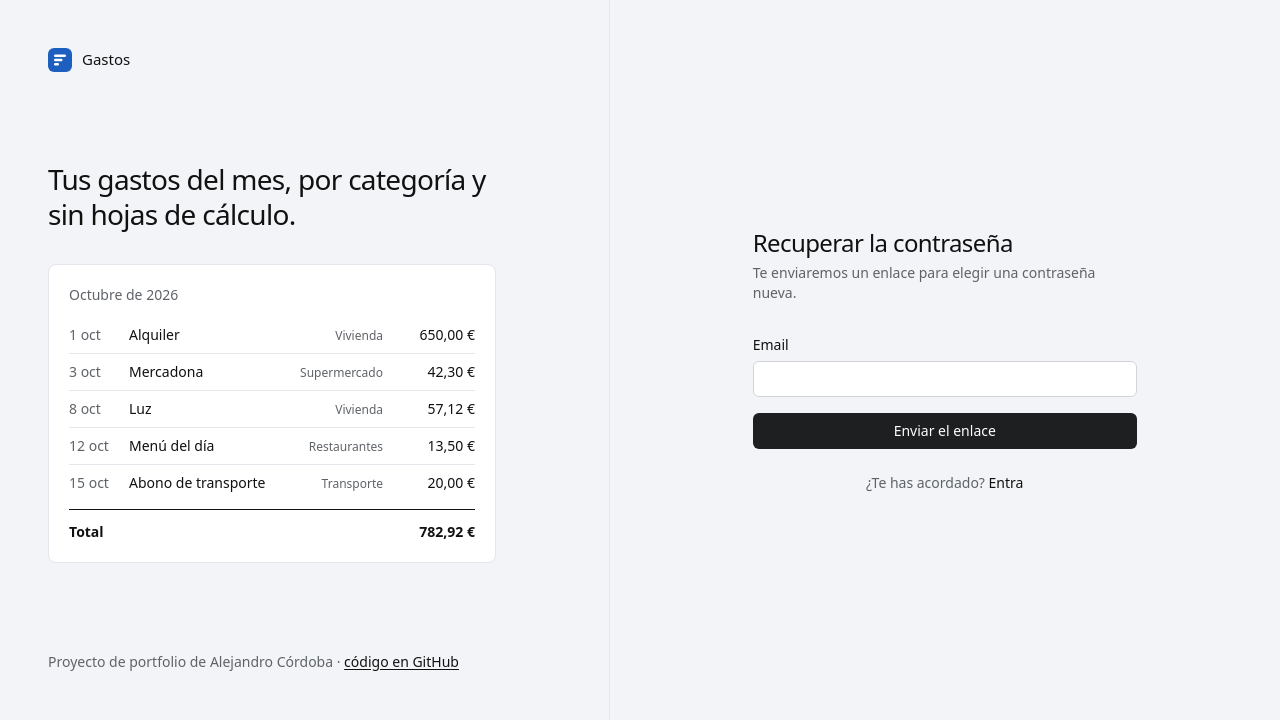
password reset › asks the API to email a link
The width and height of the screenshot is (1280, 720).
Type "ana@example.com" into the field labelled "Email".
click(945, 379); type("ana@example.com")  # box [753,361,1137,397]
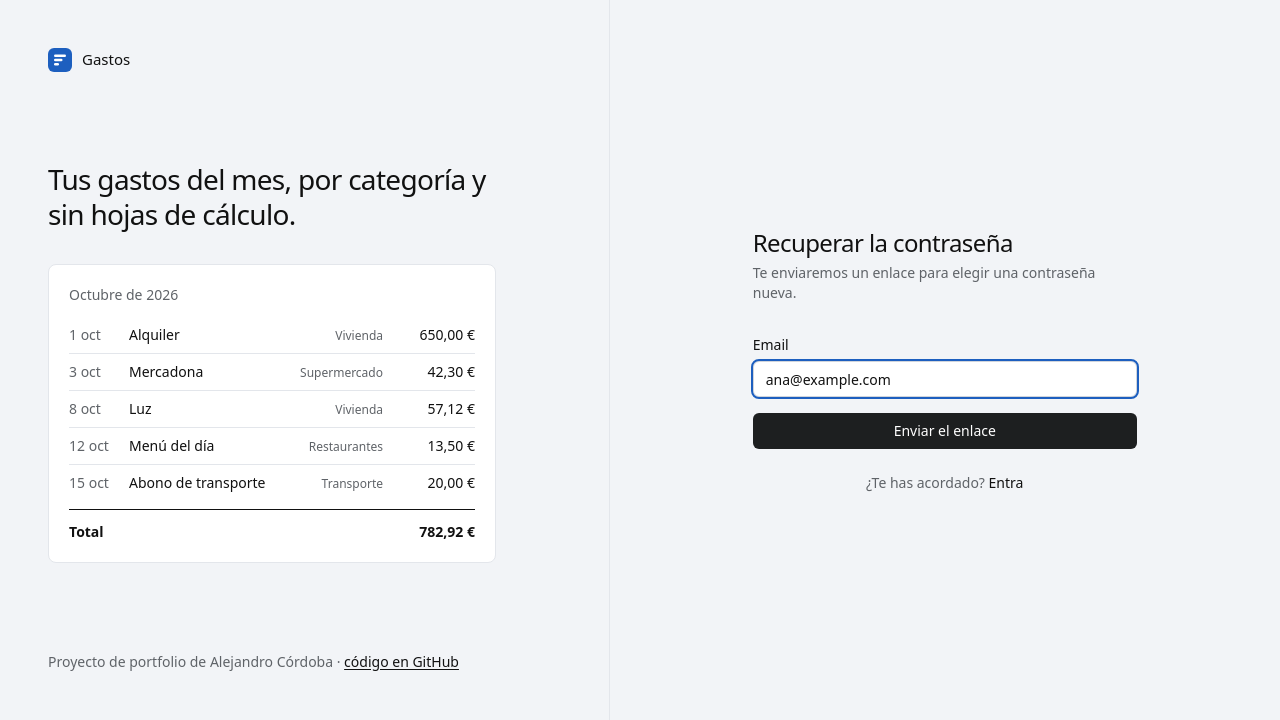
Click the button "Enviar el enlace".
click(945, 431)  # box [753,413,1137,449]
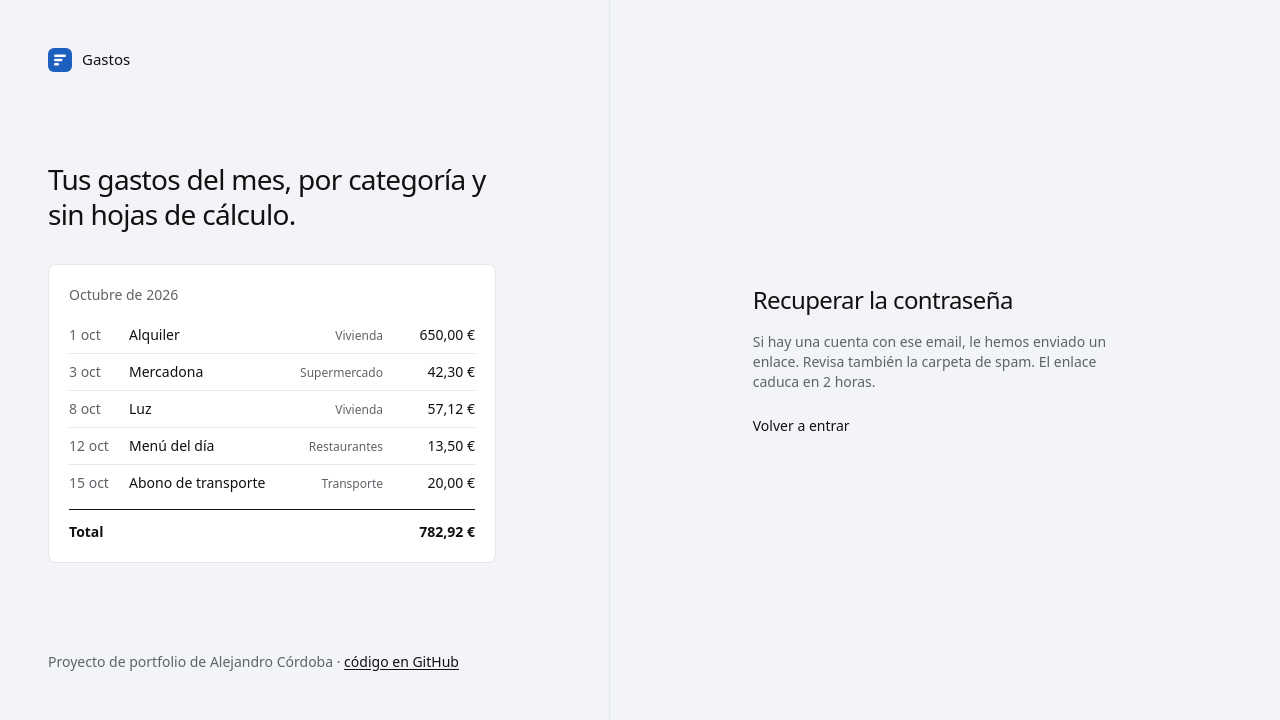
Expected: the message shows "le hemos enviado un enlace", [753,332,1106,371]
